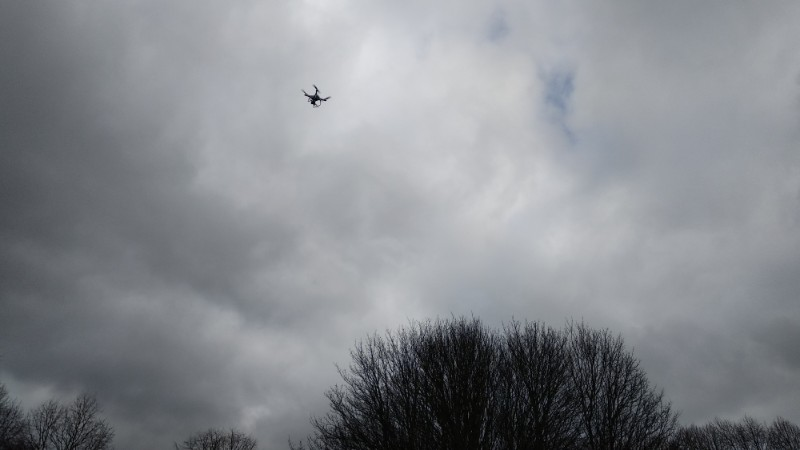drone: (303, 85, 331, 108)
